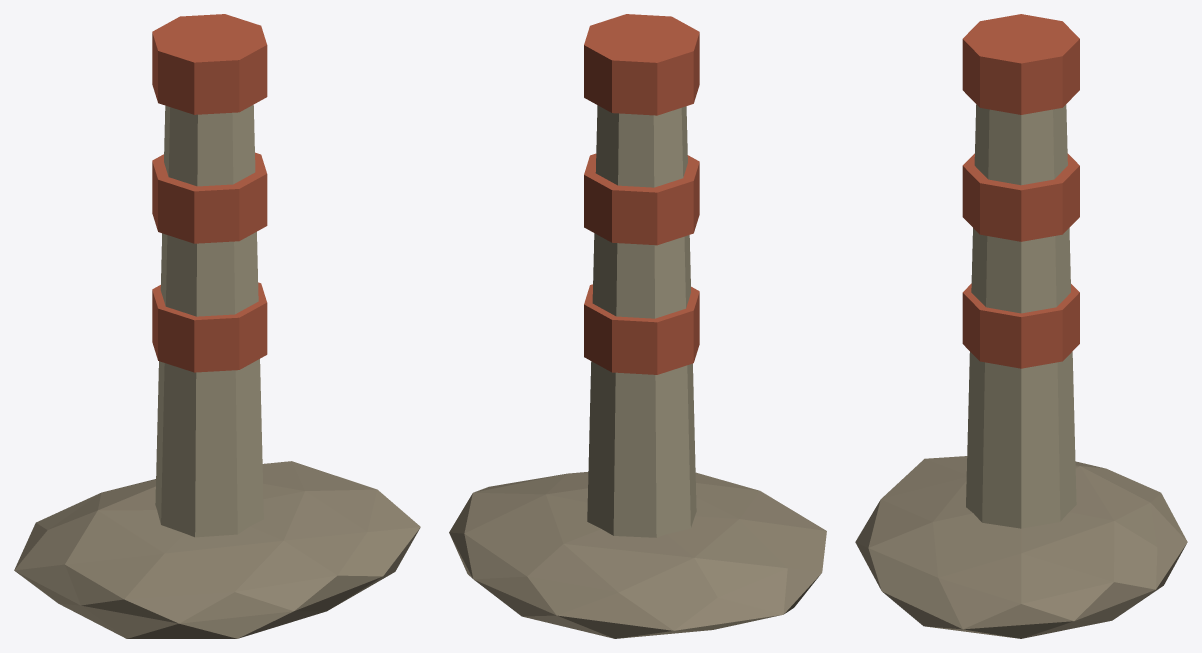
Rendered from channel_marker.glb.
The picture shows the model from 3 angles, left to right: view 1: azimuth 30°, elevation 25°; view 2: azimuth 150°, elevation 25°; view 3: azimuth 270°, elevation 25°; orthographic projection. The views are drawn at different scales.
Parts seen in each view (by area): view 1: MG2 channel_marker MG2 Stone warm, MG2 channel_marker MG2 Wood driftwood, MG2 channel_marker MG2 Paint red; view 2: MG2 channel_marker MG2 Stone warm, MG2 channel_marker MG2 Wood driftwood, MG2 channel_marker MG2 Paint red; view 3: MG2 channel_marker MG2 Stone warm, MG2 channel_marker MG2 Wood driftwood, MG2 channel_marker MG2 Paint red.
Boxes of the visible parts, x1=… form: MG2 channel_marker MG2 Stone warm: x1=14, y1=461, x2=420, y2=638; MG2 channel_marker MG2 Wood driftwood: x1=155, y1=105, x2=263, y2=537; MG2 channel_marker MG2 Paint red: x1=152, y1=14, x2=267, y2=372; MG2 channel_marker MG2 Stone warm: x1=449, y1=472, x2=826, y2=638; MG2 channel_marker MG2 Wood driftwood: x1=587, y1=105, x2=696, y2=537; MG2 channel_marker MG2 Paint red: x1=584, y1=14, x2=699, y2=374; MG2 channel_marker MG2 Stone warm: x1=855, y1=456, x2=1187, y2=638; MG2 channel_marker MG2 Wood driftwood: x1=966, y1=104, x2=1076, y2=528; MG2 channel_marker MG2 Paint red: x1=962, y1=14, x2=1079, y2=368.
Size of the model in its own units: 0.4546 by 0.6817 by 0.3801.
